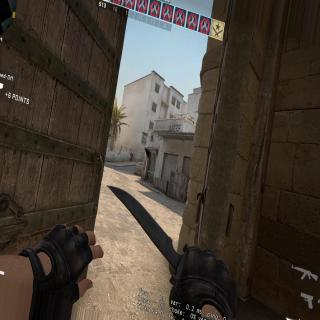CT-Body: (129, 152, 133, 161)
CT-Head: (131, 152, 132, 154)
